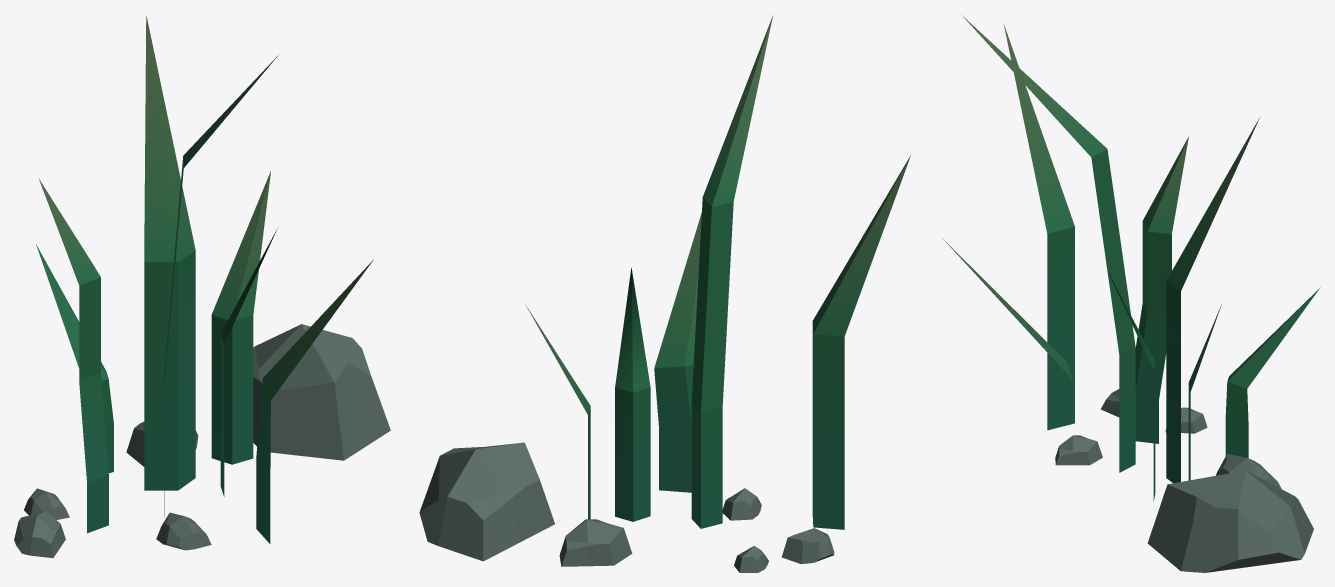
The model's file is grass_test.glb.
3 renders of one model, left to right at view 1: azimuth 30°, elevation 25°; view 2: azimuth 150°, elevation 25°; view 3: azimuth 270°, elevation 25°, orthographic. The views are drawn at different scales.
Parts seen in each view (by area): view 1: Plane.004, Cube.004; view 2: Plane.004, Cube.004; view 3: Plane.004, Cube.004.
Boxes of the visible parts, x1,y1,x2,y2 form: Plane.004: (36,15,373,543); Cube.004: (14,324,390,557); Plane.004: (526,16,910,529); Cube.004: (419,442,834,572); Plane.004: (942,15,1320,501); Cube.004: (1055,389,1313,572).
Size of the model in its own units: 0.5365 by 0.6294 by 0.4746.
